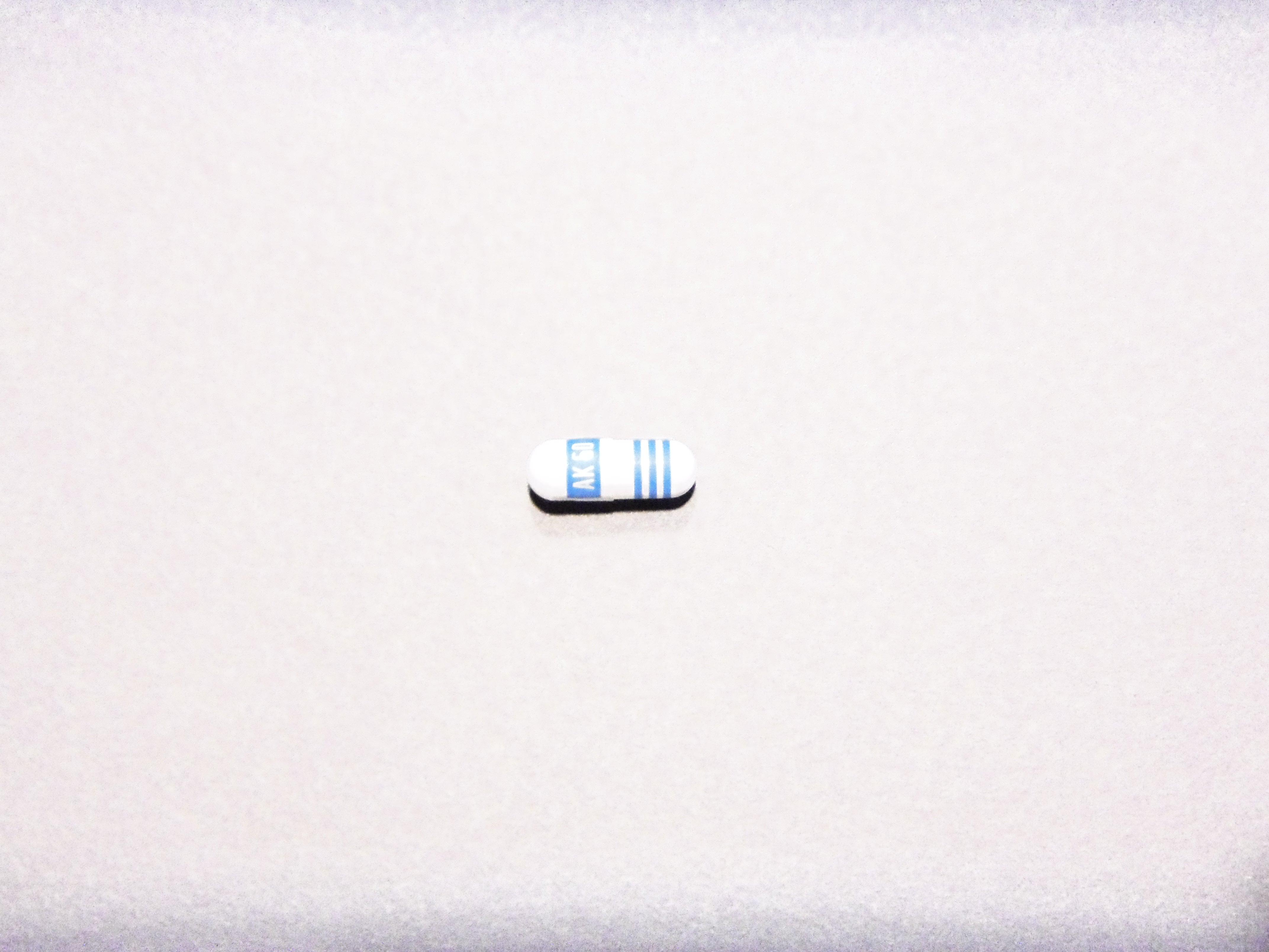Pill: (521, 428, 704, 509)
